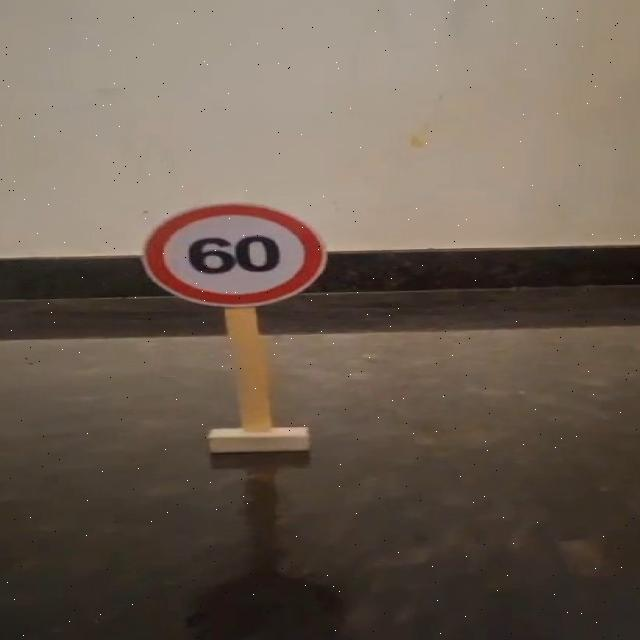Speed60: (138, 200, 331, 310)
